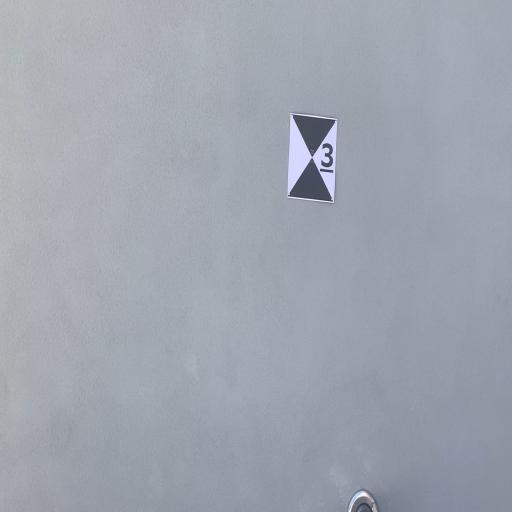target3: (287, 112, 338, 203)
